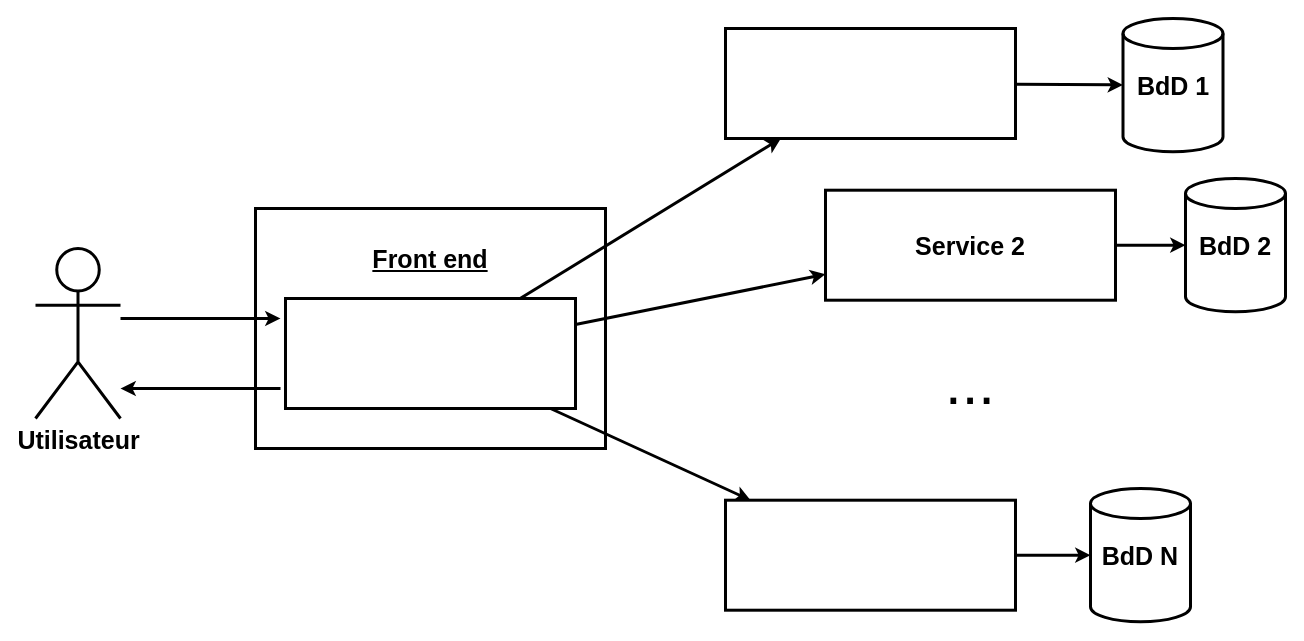
The diagram is 1304 pixels wide and 641 high, and some of its shapes have lost their labels. Each missing label, with the centre of its shape:
Présentation: point (430, 353)
Service 1: point (870, 83)
Service N: point (870, 554)
